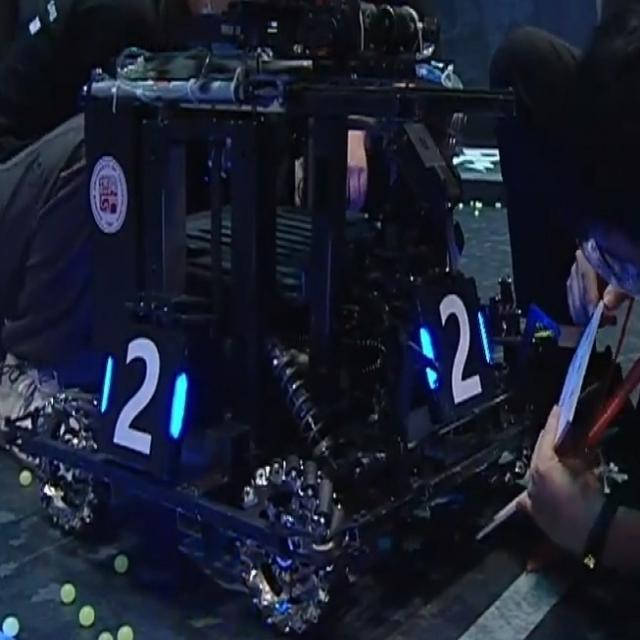B2: (100, 335, 185, 453), (419, 294, 488, 402)
